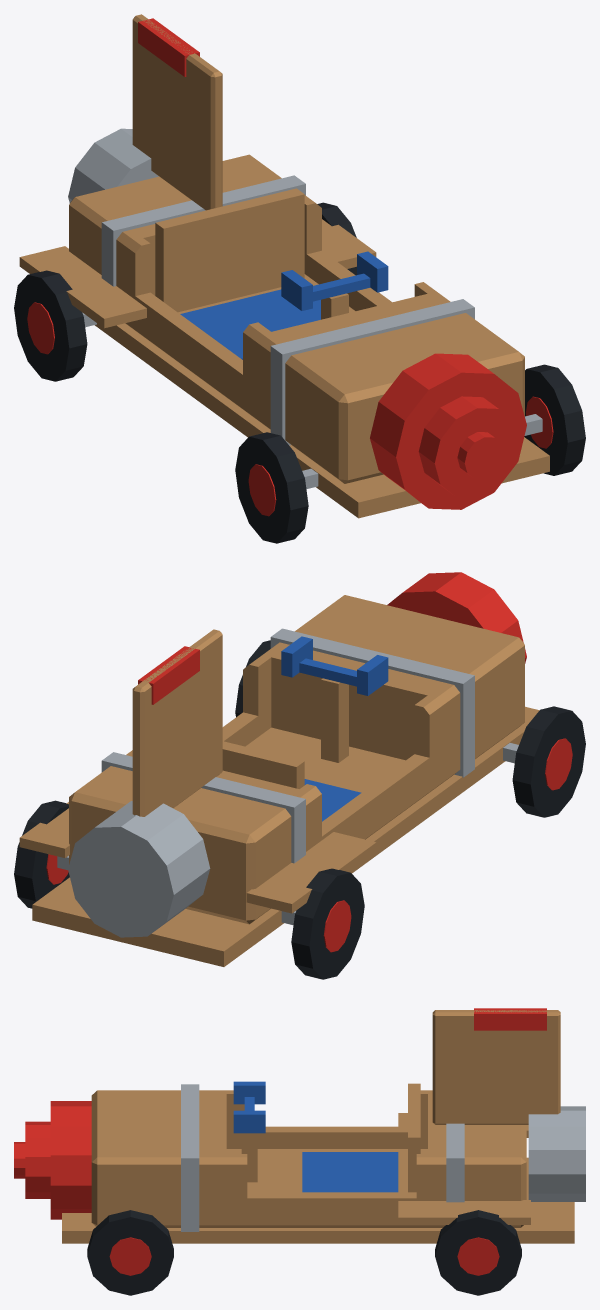
The model's file is veh_derby_cardboard_rocket_1p.glb.
3 views of the same model, one above another, from view 1: azimuth 30°, elevation 25°; view 2: azimuth 150°, elevation 25°; view 3: azimuth 270°, elevation 25° (orthographic). The views are drawn at different scales.
Parts seen in each view (by area): view 1: body, cone_base, derby_wheel, duct_tape_f, astronaut_seat, wheel_hub, steer_spin; view 2: body, duct_tape_f, derby_wheel, cone_base, steer_spin, wheel_hub, astronaut_seat; view 3: body, duct_tape_f, derby_wheel, cone_base, astronaut_seat, wheel_hub, steer_spin.
Boxes of the visible parts, <box> form: body: <box>19,14,549,518</box>; cone_base: <box>138,18,526,509</box>; derby_wheel: <box>14,202,585,543</box>; duct_tape_f: <box>68,128,542,489</box>; astronaut_seat: <box>180,289,320,359</box>; wheel_hub: <box>27,302,553,516</box>; steer_spin: <box>281,251,388,310</box>; body: <box>19,595,539,966</box>; duct_tape_f: <box>57,628,518,937</box>; derby_wheel: <box>14,640,585,979</box>; cone_base: <box>138,572,526,704</box>; steer_spin: <box>281,636,388,695</box>; wheel_hub: <box>46,738,572,952</box>; astronaut_seat: <box>304,779,361,821</box>; body: <box>62,1010,574,1243</box>; duct_tape_f: <box>181,1084,585,1231</box>; derby_wheel: <box>87,1210,521,1295</box>; cone_base: <box>14,1008,546,1219</box>; astronaut_seat: <box>302,1152,398,1192</box>; wheel_hub: <box>109,1237,499,1275</box>; steer_spin: <box>233,1081,265,1133</box>.
Bounding box in the file's own units: 1.18 × 1.1 × 2.5.
